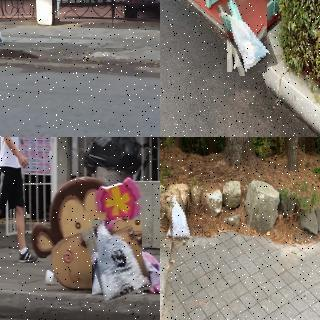Garbage: (86, 217, 148, 300), (221, 0, 272, 74), (162, 189, 192, 243)
